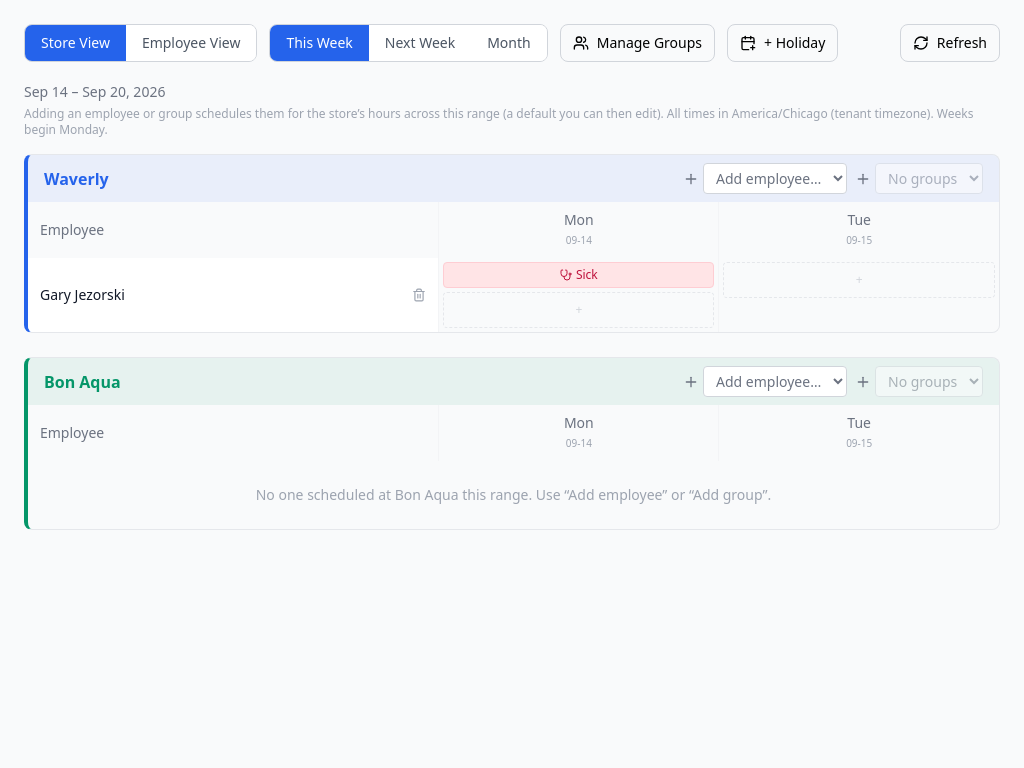
Test: WorkScheduleV2 — status and holiday badges › clicking a status badge opens the cell modal with that status preselected
Expected: the heading "Waverly" is shown, [44, 166, 109, 190]
Click the button "Sick".
click(579, 275)  # box [443, 262, 714, 288]
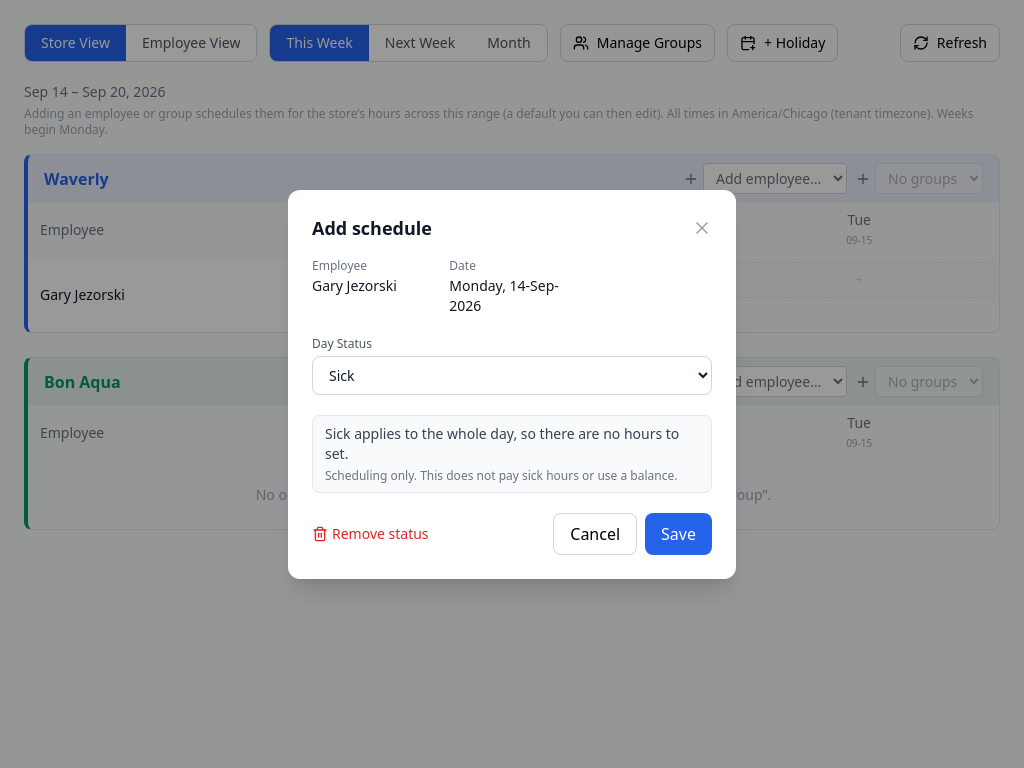
Expected: the dropdown labelled "Day Status" shows "Sick", [312, 356, 712, 394]
